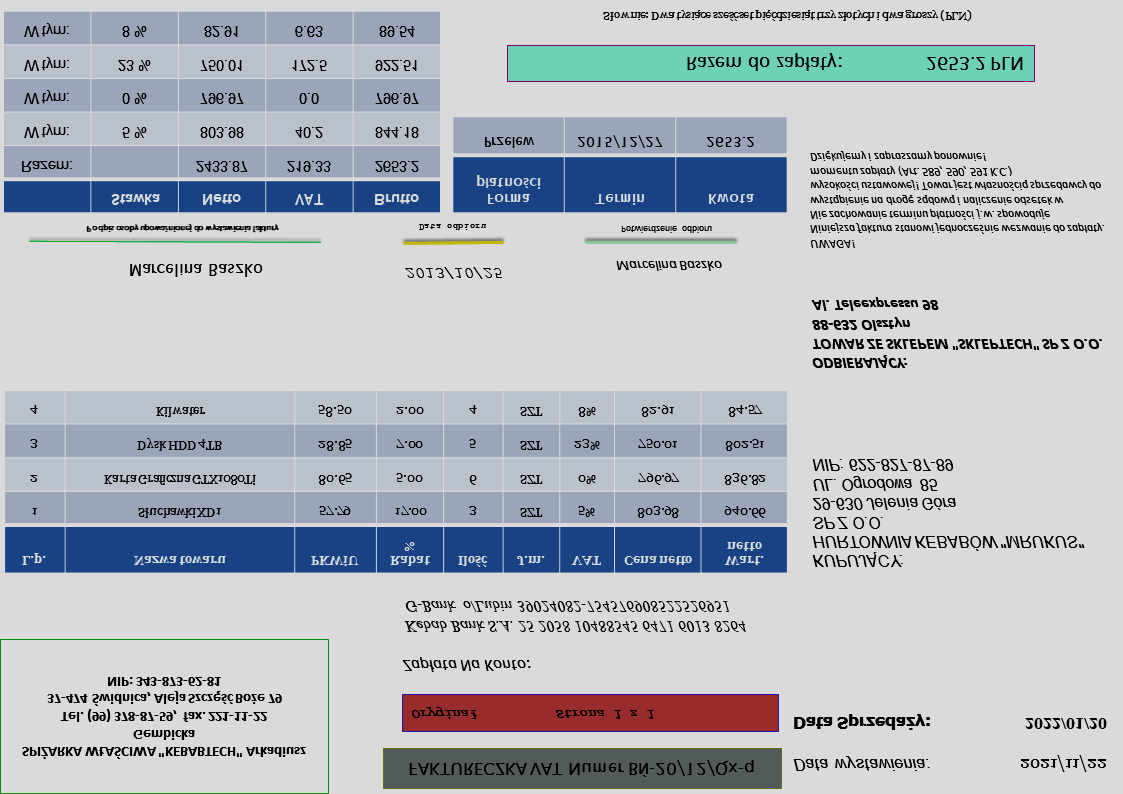Table: (3, 390, 790, 577), (2, 10, 442, 213), (451, 116, 788, 214)
TextBox: (808, 455, 1087, 572), (807, 148, 1105, 252), (18, 673, 307, 764), (808, 295, 1105, 374), (403, 597, 748, 638), (404, 756, 757, 780), (684, 52, 1023, 76), (600, 7, 974, 26), (408, 703, 659, 724), (791, 710, 935, 734), (790, 753, 931, 776), (400, 655, 535, 677), (83, 221, 281, 235), (127, 261, 263, 279), (1015, 753, 1110, 775), (614, 257, 724, 274), (402, 265, 506, 282), (1021, 714, 1111, 733), (619, 223, 714, 236), (417, 221, 488, 235)
